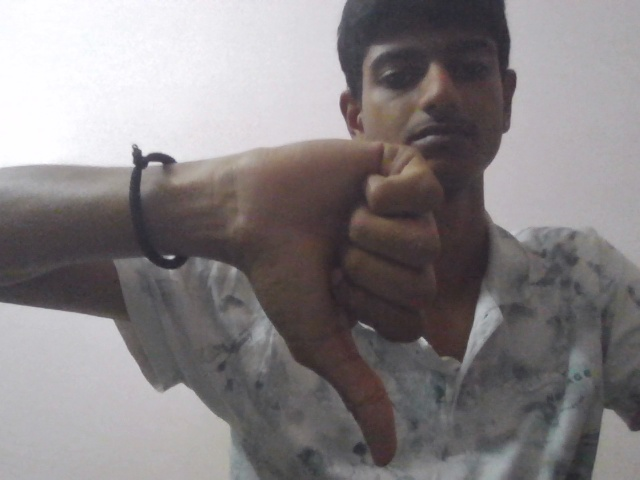no: (240, 151, 451, 469)
